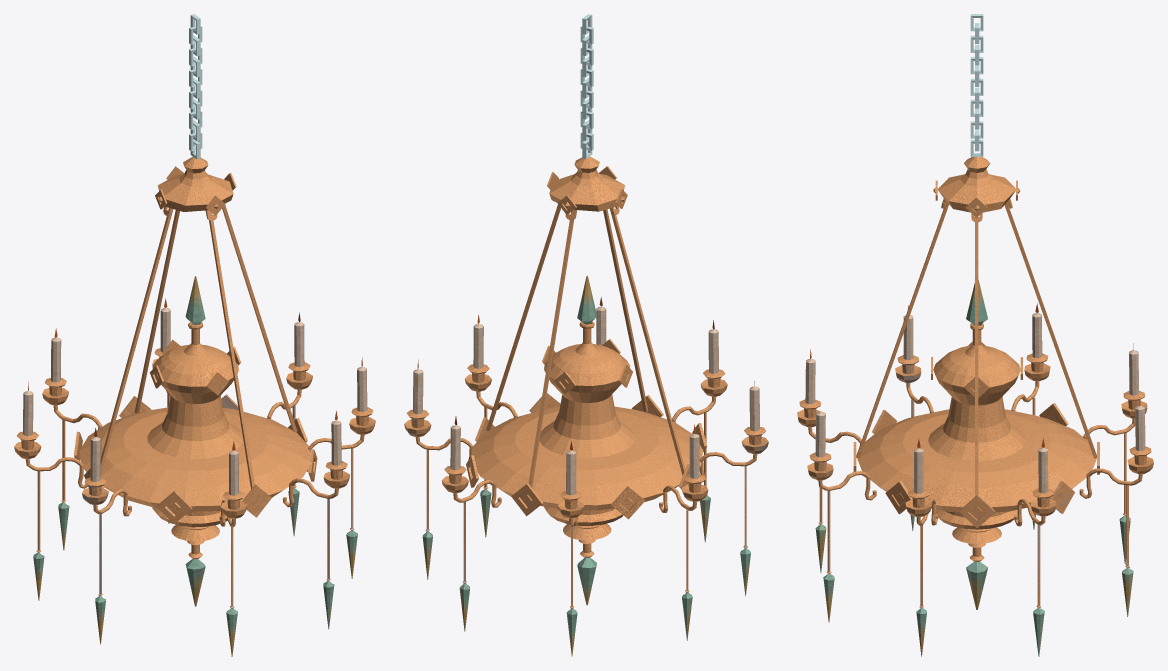
Rendered from araña.techoo.fbx.
3 views of the same model, side by side, from view 1: azimuth 30°, elevation 25°; view 2: azimuth 150°, elevation 25°; view 3: azimuth 270°, elevation 25° (orthographic).
Parts seen in each view (by area): view 1: Cylinder.010; view 2: Cylinder.010; view 3: Cylinder.010.
Boxes of the visible parts, x1,y1,x2,y2 form: Cylinder.010: (14, 14, 375, 656); Cylinder.010: (404, 14, 768, 656); Cylinder.010: (797, 14, 1153, 656).
Bounding box in the file's own units: 125 × 237 × 129.
Materials: 4 (4 with a texture image).
